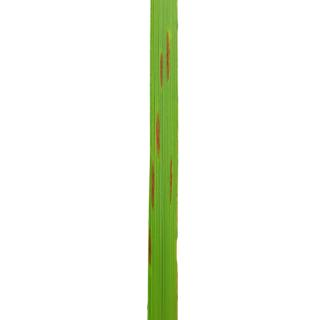Bercak-Cokelat-Sempit: (146, 225, 158, 271), (153, 48, 165, 94), (167, 157, 177, 209), (156, 112, 166, 158), (165, 29, 173, 85), (149, 161, 155, 214)
